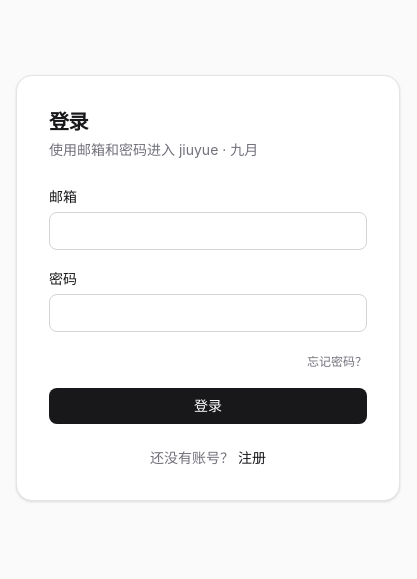
LoginView › shows the retry hint for a lockout too
Step 1. Type "alice@example.com" into the field labelled "邮箱" → (208, 231), box x1=49 y1=212 x2=367 y2=250
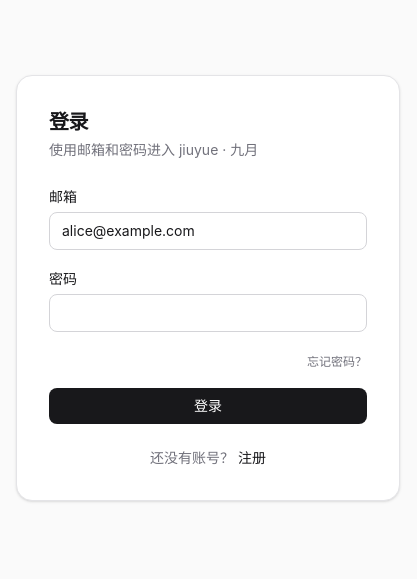
Step 2. Type "secret123" into the password field labelled "密码" → (208, 313), box x1=49 y1=294 x2=367 y2=332
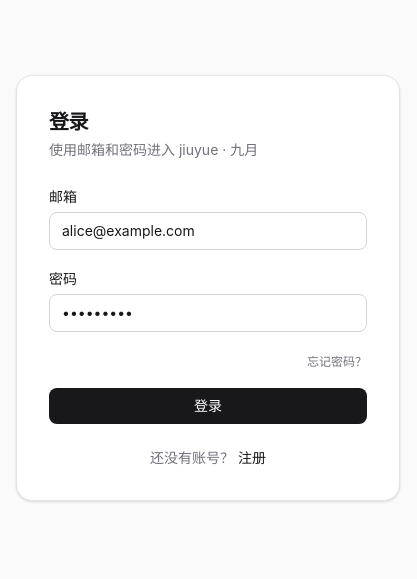
Step 3. Submit the form, box x1=49 y1=184 x2=367 y2=424
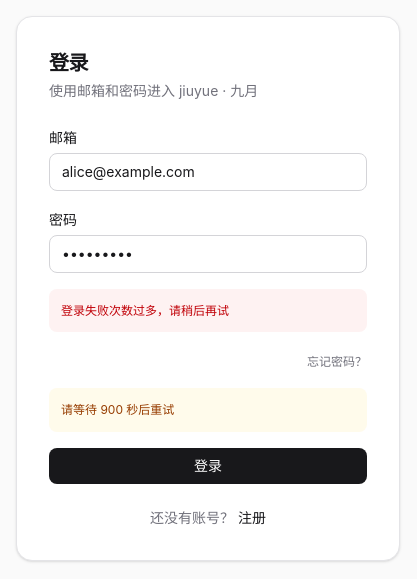
Check: the text "请等待 900 秒后重试" is shown, box x1=49 y1=388 x2=367 y2=432
Check: the text with test id "retry-hint" shows "900", box x1=61 y1=402 x2=174 y2=417
